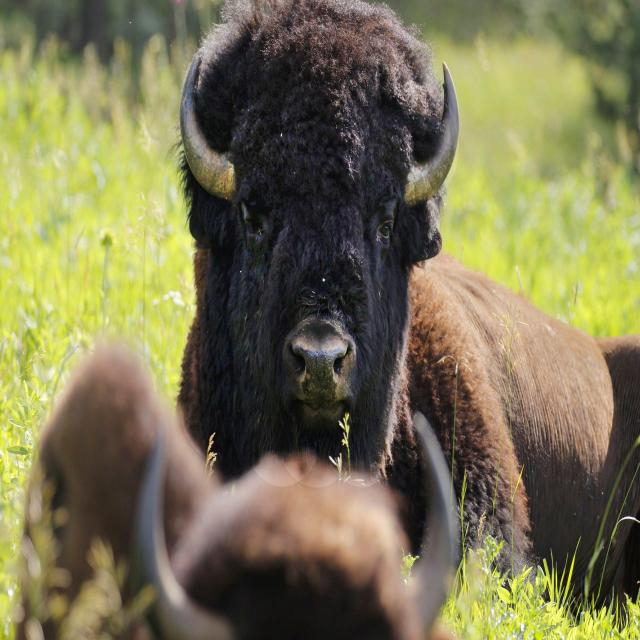bison: (178, 2, 640, 605)
